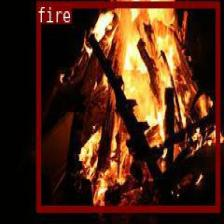fire: (36, 1, 219, 212)
